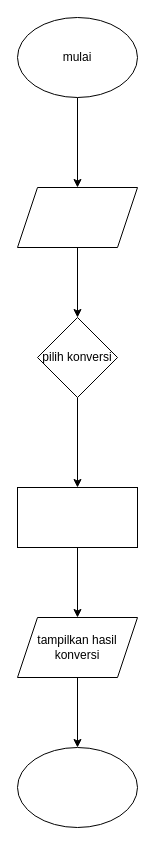
This 155x845 diagram has some shape labels left out. The centre of each missing label's shape, as x and y in pixels:
input suhu, asal, satuan tujuan: the point at 77,217
proses perhitungan sesuai rumus: the point at 77,517
